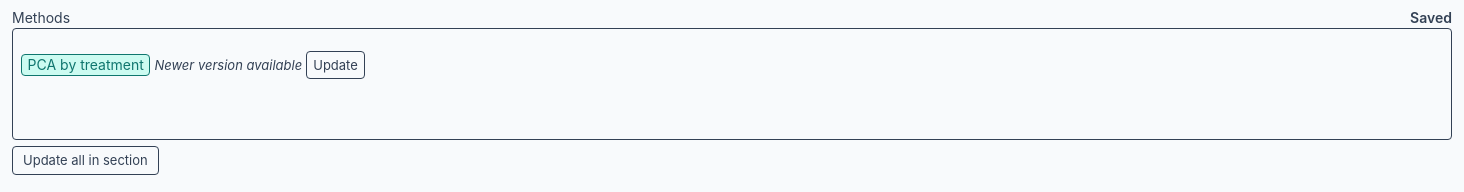
Test case: RichSectionEditor — live › updates a single outdated reference to its artefact's latest version and autosaves the result (FR-EDT-07)
Click the button with class "expanded__artefact-ref-update".
click(336, 65)  # box [306,51,365,79]
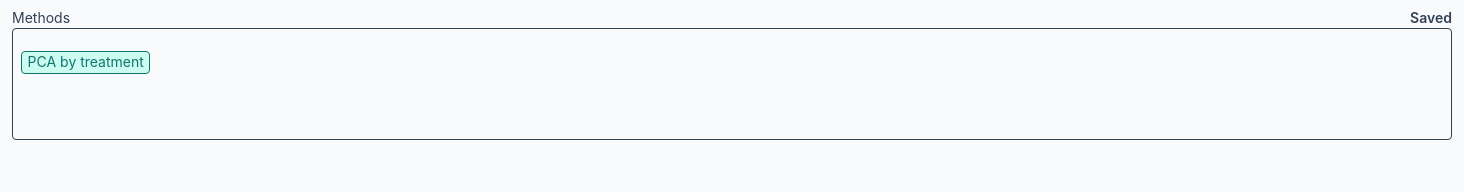
Now the element with class "expanded__artefact-ref-newer" is gone
